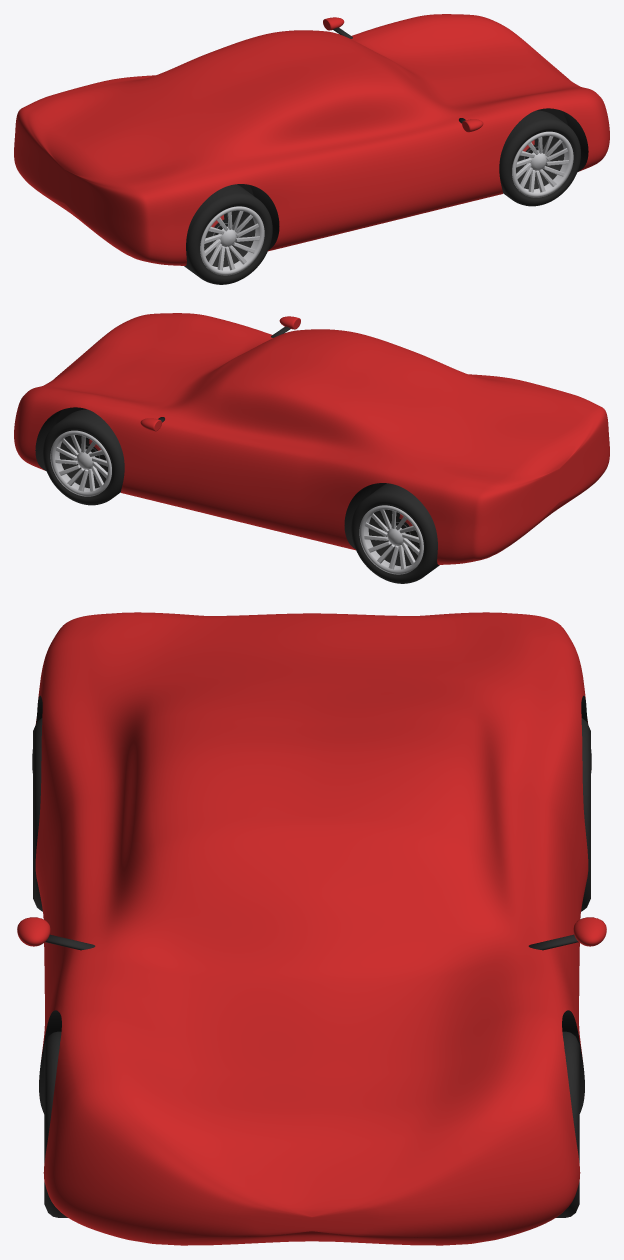
The model's file is roadster.glb.
The picture shows the model from 3 angles, top to bottom: view 1: azimuth 30°, elevation 25°; view 2: azimuth 150°, elevation 25°; view 3: azimuth 270°, elevation 25°; orthographic projection. The views are drawn at different scales.
Parts seen in each view (by area): view 1: body, wheel_RR, wheel_FR; view 2: body, wheel_RL, wheel_FL; view 3: body, wheel_FL, wheel_FR, wheel_RL, wheel_RR, mirror_L, mirror_R.
Part boxes in pixels (x1,y1,x2,y2): body: (14,14,609,265); wheel_RR: (184,184,272,284); wheel_FR: (499,110,580,206); body: (14,313,609,564); wheel_RL: (351,483,439,583); wheel_FL: (43,409,124,505); body: (32,612,591,1245); wheel_FL: (556,1031,579,1217); wheel_FR: (44,1031,67,1217); wheel_RL: (581,718,590,911); wheel_RR: (33,718,42,911); mirror_L: (528,917,606,950); mirror_R: (17,917,95,950).
Bounding box in the file's own units: 4.26 × 1.13 × 2.12.
